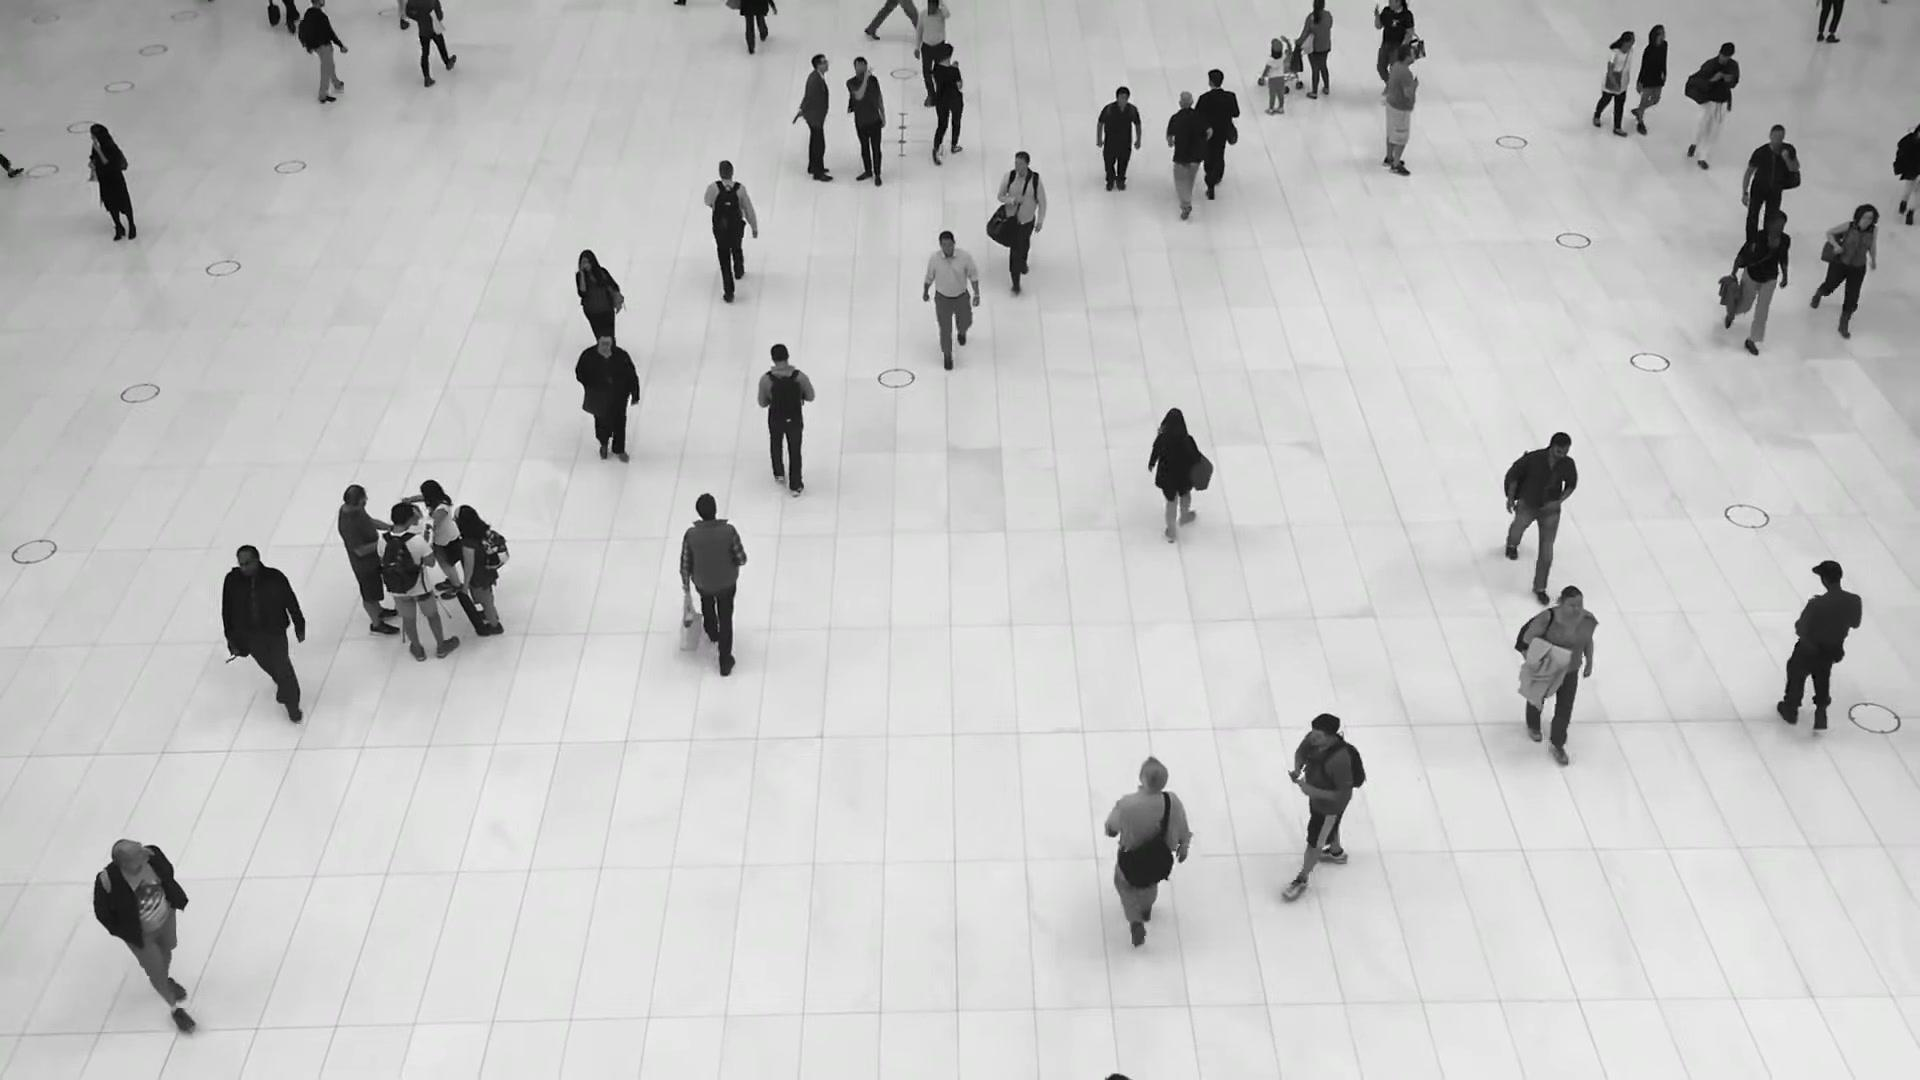person: (91, 838, 194, 1027), (1101, 758, 1192, 948), (1773, 563, 1863, 750), (1284, 714, 1367, 895), (223, 545, 307, 722), (1517, 584, 1597, 764), (377, 503, 456, 662), (1504, 427, 1579, 597), (678, 494, 746, 676), (336, 484, 400, 634), (1726, 209, 1791, 354), (573, 331, 640, 469), (1812, 201, 1879, 335), (755, 345, 813, 499), (1150, 410, 1210, 552), (923, 230, 981, 371), (702, 159, 757, 301), (996, 148, 1047, 294), (1684, 42, 1739, 170), (1739, 125, 1800, 236), (454, 504, 504, 637), (1165, 91, 1213, 218), (1195, 68, 1240, 200), (88, 122, 136, 241), (845, 56, 886, 187), (1095, 86, 1142, 196), (298, 0, 348, 104), (419, 479, 461, 600), (1382, 44, 1420, 177), (574, 247, 625, 344), (1592, 29, 1636, 136), (799, 53, 833, 182), (1631, 24, 1668, 136), (930, 44, 964, 164), (1295, 0, 1333, 100), (913, 1, 949, 93), (1370, 0, 1414, 75), (1261, 41, 1290, 115)
